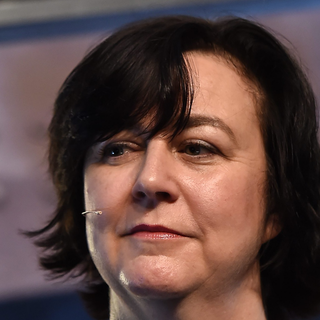eye: (176, 136, 226, 163), (96, 138, 139, 163)
